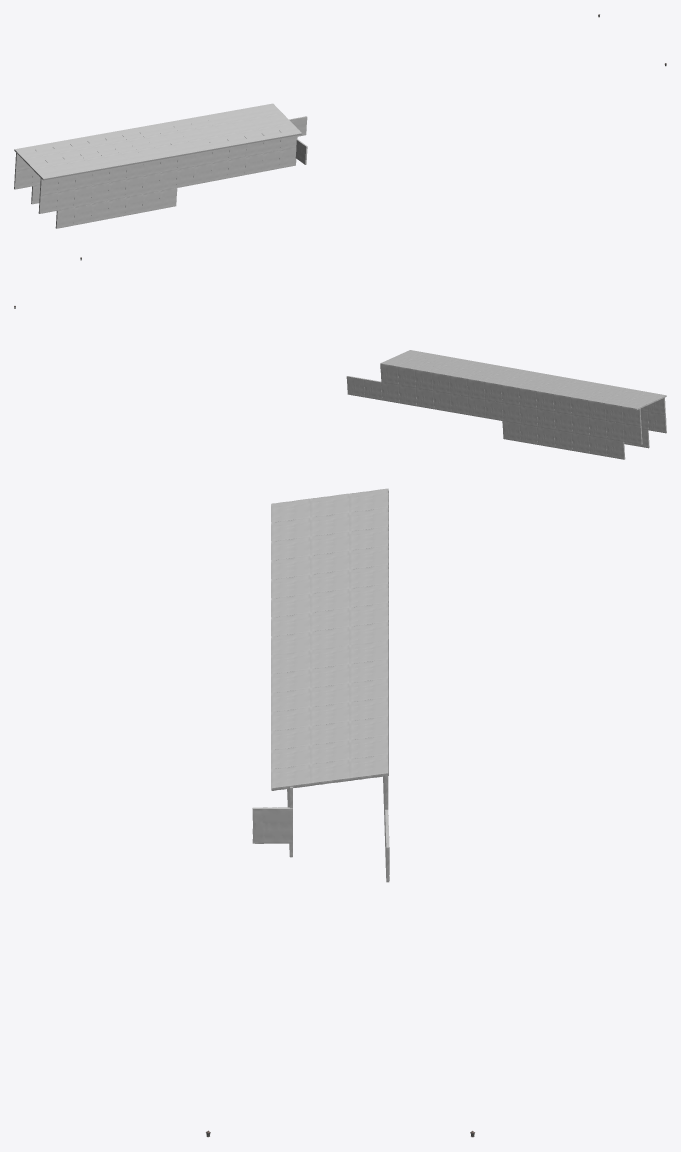
The model's file is Pasillo.fbx.
3 views of the same model, one above another, from view 1: azimuth 30°, elevation 25°; view 2: azimuth 150°, elevation 25°; view 3: azimuth 270°, elevation 25° (orthographic). The views are drawn at different scales.
Visible parts, largest first — view 1: pared_piedra_3x3_LOW__2__Variant__15_, pared_piedra_3x3_LOW__2__Variant__80_, pared_piedra_3x3_LOW__2__Variant__75_, pared_piedra_3x3_LOW__2__Variant__63_, pared_piedra_3x3_LOW__2__Variant__73_, pared_piedra_3x3_LOW__2__Variant__64_, pared_piedra_3x3_LOW__2__Variant__61_, pared_piedra_3x3_LOW__2__Variant__66_, pared_piedra_3x3_LOW__2__Variant__72_, pared_piedra_3x3_LOW__2__Variant__71_, pared_piedra_3x3_LOW__2__Variant__74_, pared_piedra_3x3_LOW__2__Variant__60_ (+9 smaller); view 2: pared_piedra_3x3_LOW__2__Variant__80_, pared_piedra_3x3_LOW__2__Variant__15_, pared_piedra_3x3_LOW__2__Variant, pared_piedra_3x3_LOW__2__Variant__1_, pared_piedra_3x3_LOW__2__Variant__22_, pared_piedra_3x3_LOW__2__Variant__13_, pared_piedra_3x3_LOW__2__Variant__10_, pared_piedra_3x3_LOW__2__Variant__2_, pared_piedra_3x3_LOW__2__Variant__3_, pared_piedra_3x3_LOW__2__Variant__4_, pared_piedra_3x3_LOW__2__Variant__6_, pared_piedra_3x3_LOW__2__Variant__14_ (+19 smaller); view 3: pared_piedra_3x3_LOW__2__Variant__65_.
Boxes of the visible parts, x1,y1,x2,y2 form: pared_piedra_3x3_LOW__2__Variant__15_: (14,168,32,189); pared_piedra_3x3_LOW__2__Variant__80_: (38,192,57,213); pared_piedra_3x3_LOW__2__Variant__75_: (55,207,74,228); pared_piedra_3x3_LOW__2__Variant__63_: (193,163,211,184); pared_piedra_3x3_LOW__2__Variant__73_: (159,188,177,209); pared_piedra_3x3_LOW__2__Variant__64_: (210,160,228,181); pared_piedra_3x3_LOW__2__Variant__61_: (244,153,262,174); pared_piedra_3x3_LOW__2__Variant__66_: (176,167,194,187); pared_piedra_3x3_LOW__2__Variant__72_: (90,201,108,222); pared_piedra_3x3_LOW__2__Variant__71_: (73,204,91,225); pared_piedra_3x3_LOW__2__Variant__74_: (142,191,160,212); pared_piedra_3x3_LOW__2__Variant__60_: (262,150,279,171); pared_piedra_3x3_LOW__2__Variant__80_: (648,412,666,433); pared_piedra_3x3_LOW__2__Variant__15_: (623,424,642,444); pared_piedra_3x3_LOW__2__Variant: (346,376,364,397); pared_piedra_3x3_LOW__2__Variant__1_: (364,379,382,400); pared_piedra_3x3_LOW__2__Variant__22_: (606,439,625,459); pared_piedra_3x3_LOW__2__Variant__13_: (571,415,589,435); pared_piedra_3x3_LOW__2__Variant__10_: (537,409,555,429); pared_piedra_3x3_LOW__2__Variant__2_: (381,382,399,403); pared_piedra_3x3_LOW__2__Variant__3_: (398,385,416,406); pared_piedra_3x3_LOW__2__Variant__4_: (416,388,434,409); pared_piedra_3x3_LOW__2__Variant__6_: (467,397,485,418); pared_piedra_3x3_LOW__2__Variant__14_: (485,400,503,420); pared_piedra_3x3_LOW__2__Variant__65_: (252,807,292,843).
Bounding box in the file's own units: 10495 × 1164 × 2026.
